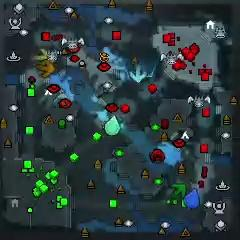p1: (182, 188, 200, 210)
p2: (105, 115, 120, 136)
x2: (32, 48, 52, 62)
x3: (130, 64, 147, 83)
x4: (170, 183, 187, 200)
x5: (35, 60, 55, 78)
